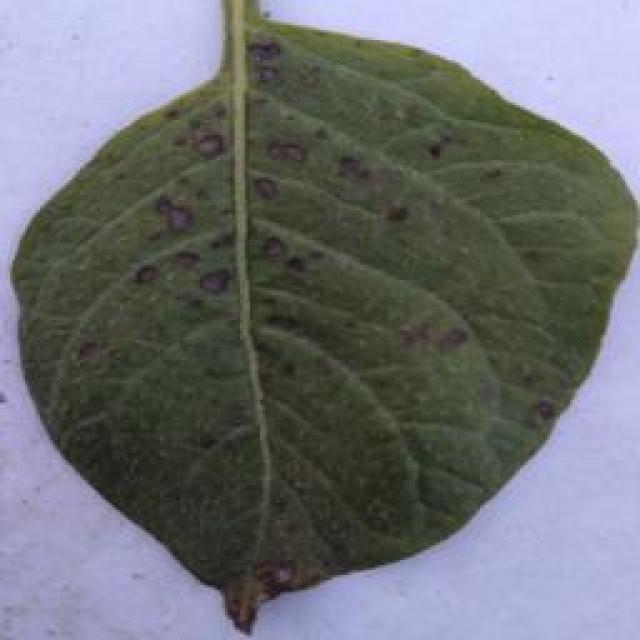Potato_Early_Blight: (12, 0, 640, 630)
